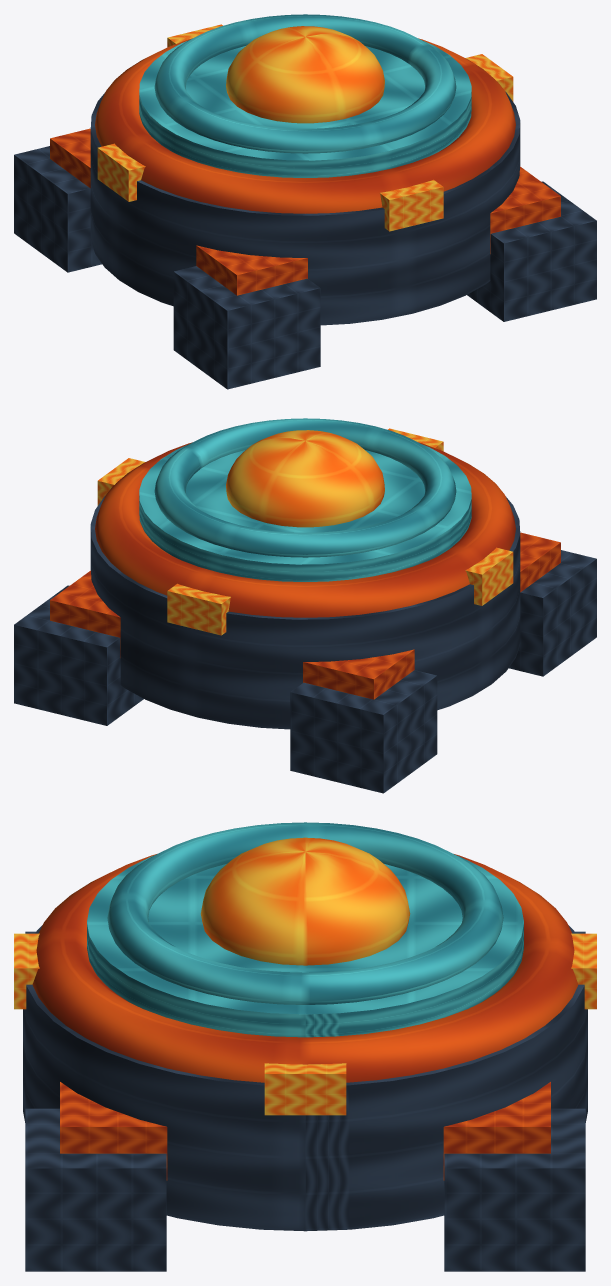
File: ring_burner.obj
3 renders of one model, top to bottom at view 1: azimuth 30°, elevation 25°; view 2: azimuth 150°, elevation 25°; view 3: azimuth 270°, elevation 25°, orthographic. The views are drawn at different scales.
Parts seen in each view (by area): view 1: RingBurner; view 2: RingBurner; view 3: RingBurner.
Boxes of the visible parts, box(x1,y1,x2,y2) form: RingBurner: box(14, 14, 596, 389); RingBurner: box(14, 418, 596, 793); RingBurner: box(14, 822, 596, 1271).
Bounding box in the file's own units: 2.56 × 1.46 × 2.56.
Materials: 4 (4 with a texture image).
